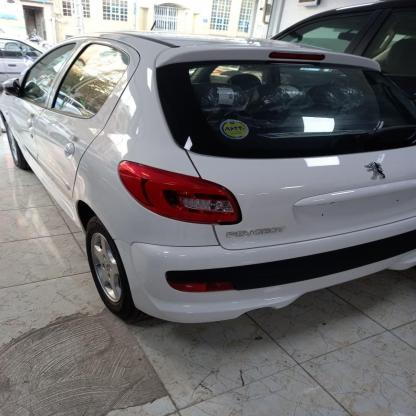Car: (0, 15, 416, 345), (243, 0, 416, 94), (0, 39, 57, 93)
